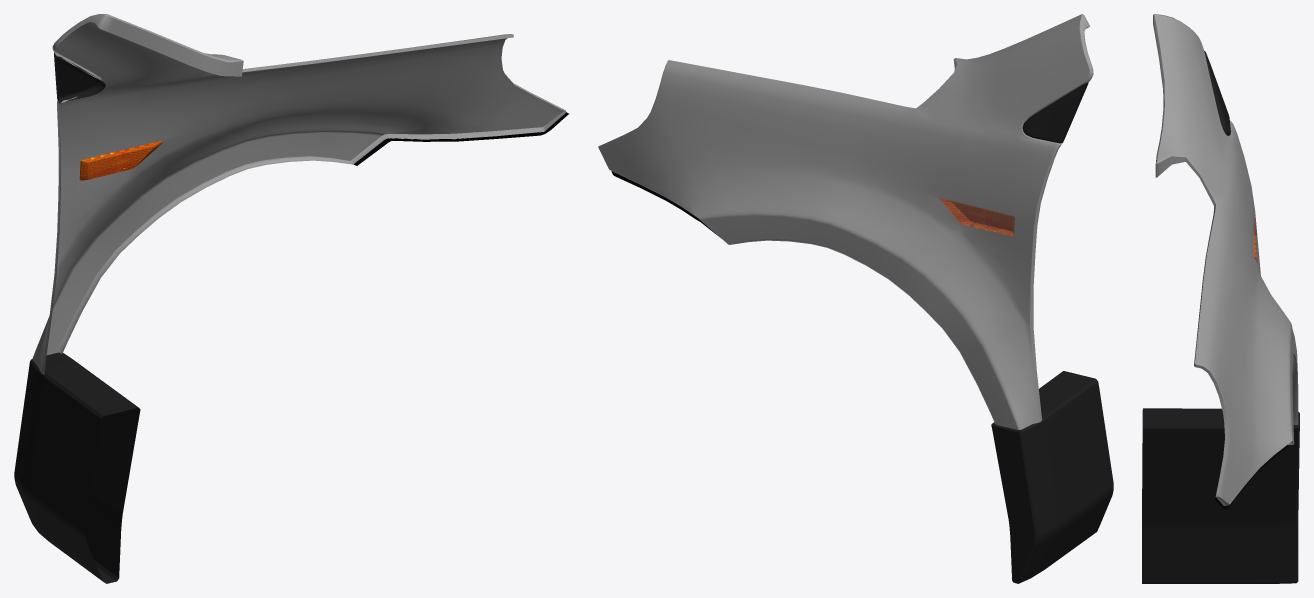
3 views of the same model, side by side, from view 1: azimuth 30°, elevation 25°; view 2: azimuth 150°, elevation 25°; view 3: azimuth 270°, elevation 25° (orthographic). The views are drawn at different scales.
Parts seen in each view (by area): view 1: H712_121B_L_H712_121B_L_2_DaS, H712_121B_L_H712_121B_L_1_D, H712_121B_L_H712_121B_L_2_DaS_E, H712_121B_L_H712_121B_L_3_N, H712_121B_L_5_D_H712_121B_L; view 2: H712_121B_L_H712_121B_L_2_DaS, H712_121B_L_H712_121B_L_1_D, H712_121B_L_H712_121B_L_2_DaS_E, H712_121B_L_H712_121B_L_3_N, H712_121B_L_H712_121B_L_4_DTaSI; view 3: H712_121B_L_H712_121B_L_2_DaS, H712_121B_L_H712_121B_L_1_D, H712_121B_L_H712_121B_L_2_DaS_E, H712_121B_L_5_D_H712_121B_L.
Boxes of the visible parts, x1=… form: H712_121B_L_H712_121B_L_2_DaS: x1=32, y1=22, x2=563, y2=372; H712_121B_L_H712_121B_L_1_D: x1=14, y1=52, x2=140, y2=583; H712_121B_L_H712_121B_L_2_DaS_E: x1=41, y1=14, x2=566, y2=374; H712_121B_L_H712_121B_L_3_N: x1=79, y1=141, x2=162, y2=180; H712_121B_L_5_D_H712_121B_L: x1=353, y1=112, x2=568, y2=165; H712_121B_L_H712_121B_L_2_DaS: x1=598, y1=14, x2=1089, y2=429; H712_121B_L_H712_121B_L_1_D: x1=991, y1=83, x2=1113, y2=583; H712_121B_L_H712_121B_L_2_DaS_E: x1=598, y1=14, x2=1093, y2=424; H712_121B_L_H712_121B_L_3_N: x1=940, y1=198, x2=1014, y2=236; H712_121B_L_H712_121B_L_4_DTaSI: x1=940, y1=198, x2=1014, y2=235; H712_121B_L_H712_121B_L_2_DaS: x1=1154, y1=14, x2=1298, y2=503; H712_121B_L_H712_121B_L_1_D: x1=1142, y1=51, x2=1299, y2=583; H712_121B_L_H712_121B_L_2_DaS_E: x1=1153, y1=14, x2=1298, y2=505; H712_121B_L_5_D_H712_121B_L: x1=1215, y1=445, x2=1287, y2=509.
Bounding box in the file's own units: 121 × 125 × 31.43.
